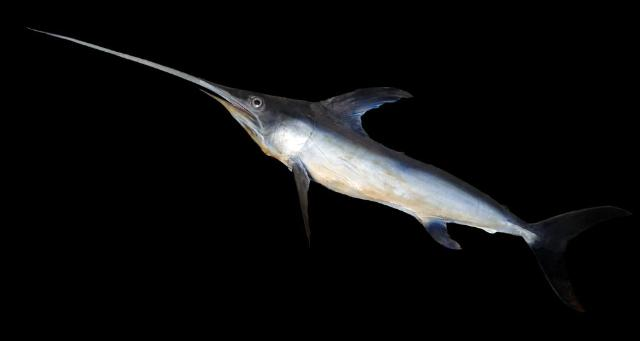Mulut: (22, 17, 268, 147)
Sirip Anal: (473, 216, 507, 246)
Sirip Dada: (283, 154, 329, 256)
Sirip Ekor: (522, 187, 628, 324)
Sirip Perut: (412, 202, 468, 258)
Sirip Punggung: (314, 75, 420, 152)
